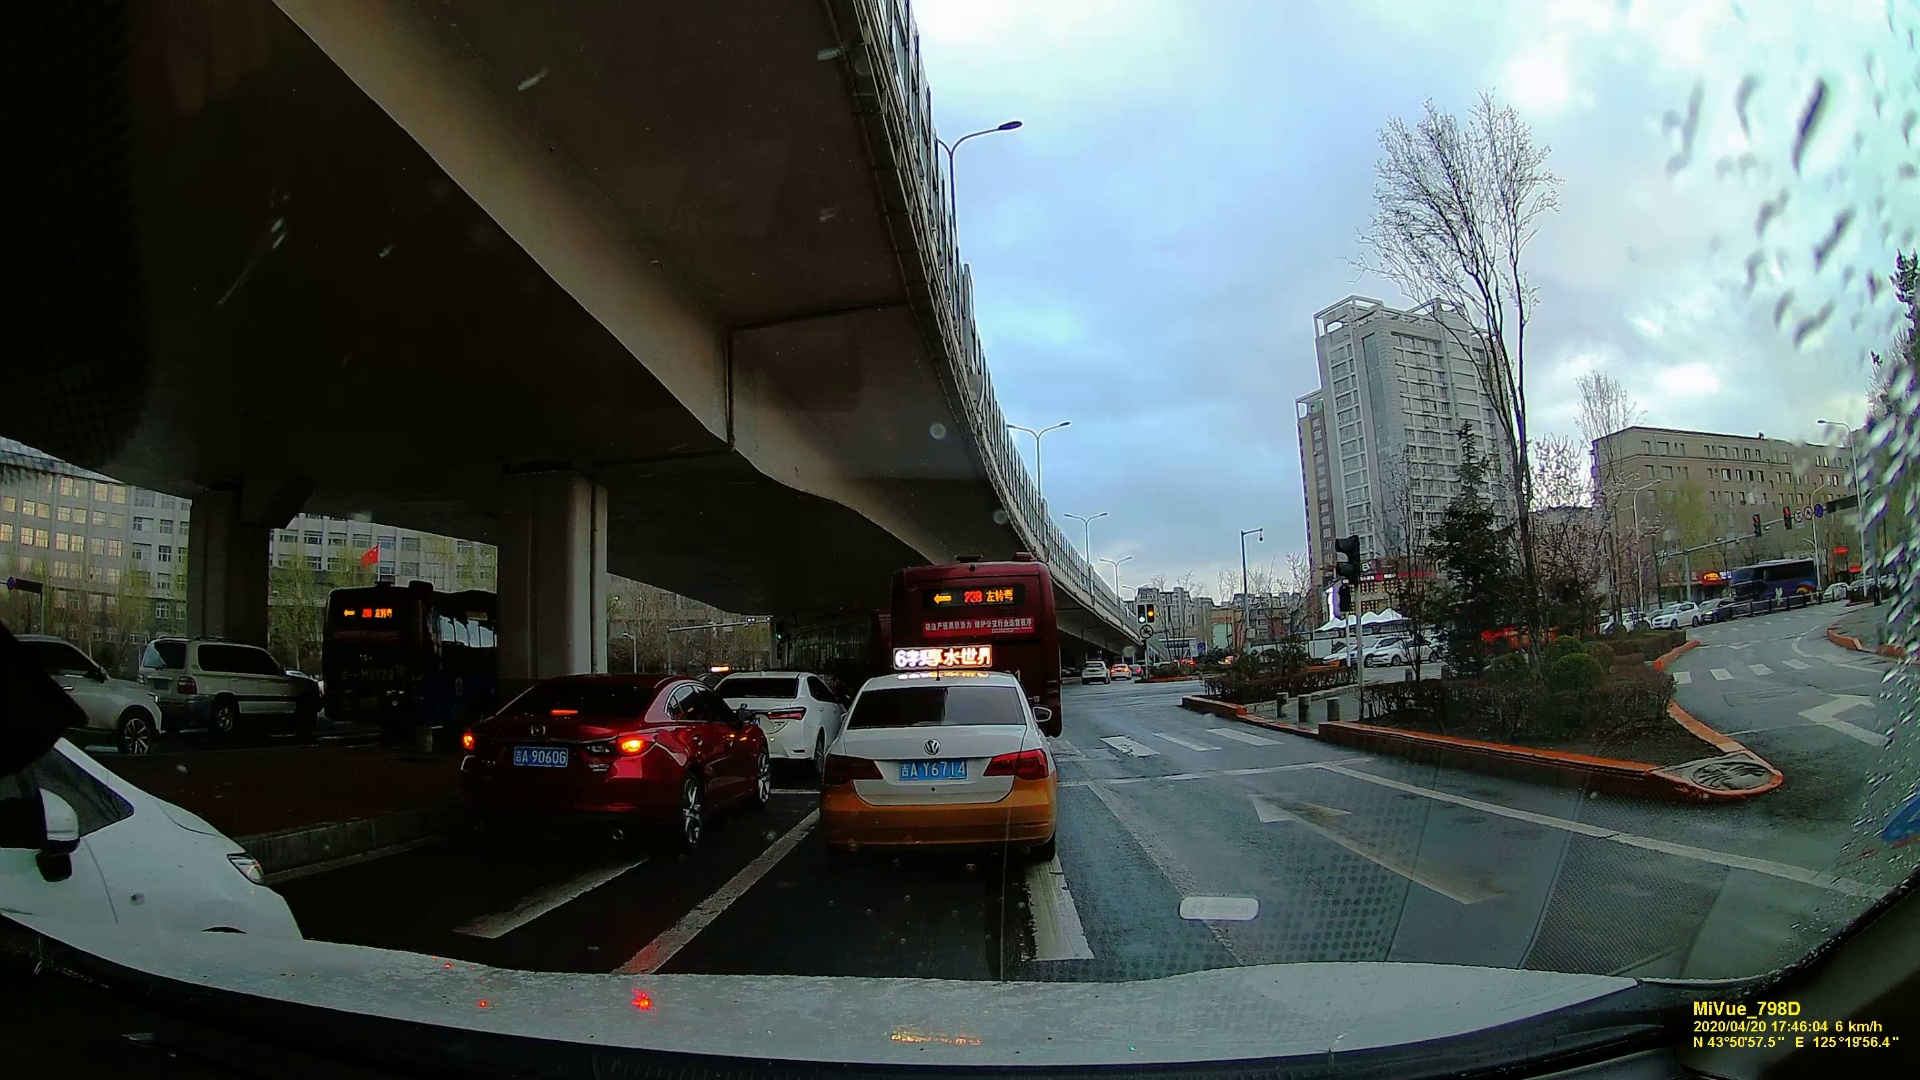bus: (324, 584, 495, 770), (884, 566, 1058, 720), (1729, 560, 1818, 607)
traffic_sign: (1337, 538, 1361, 584), (1780, 506, 1792, 531), (1751, 516, 1762, 535), (1137, 603, 1146, 625), (1793, 508, 1803, 522), (1147, 603, 1154, 622)
vehicle: (458, 673, 775, 839), (823, 662, 1064, 877), (138, 632, 315, 736), (702, 665, 841, 771), (1652, 603, 1696, 630), (1083, 659, 1110, 684)
